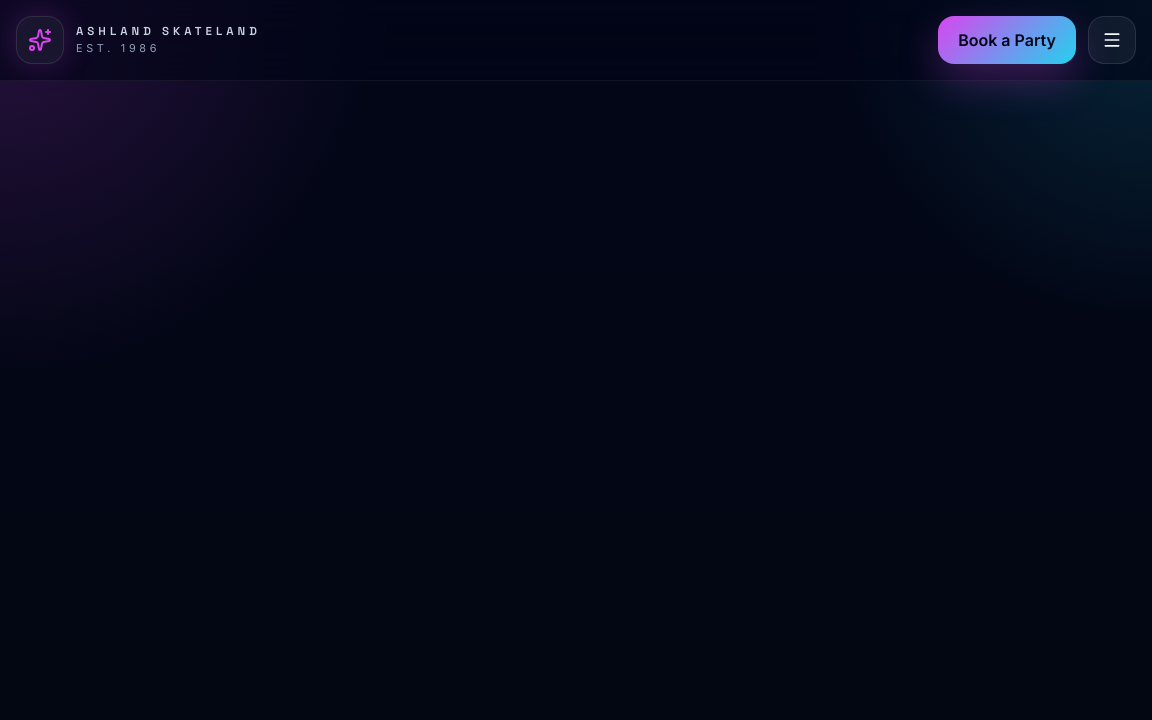
Scenario: Header › opens and closes mobile navigation
The width and height of the screenshot is (1152, 720).
Click the button named "Open navigation menu": (1112, 40) [1088, 16, 1136, 64]
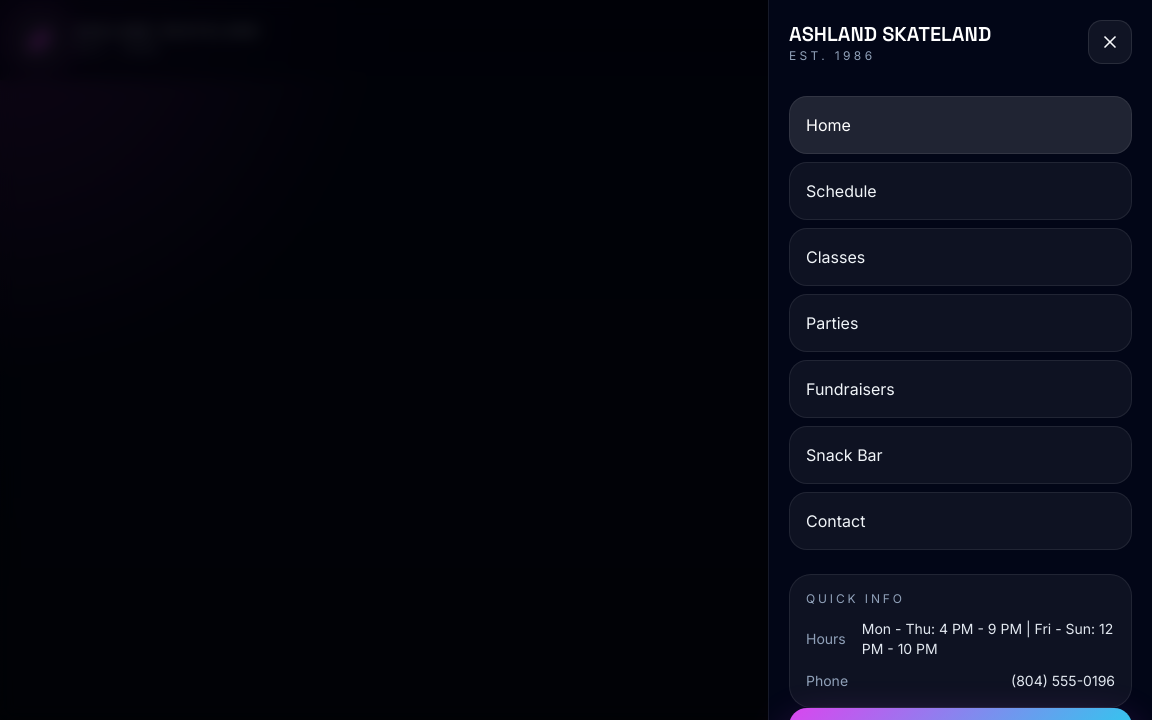
Check: the dialog is shown
Click the button named "Close navigation menu": (1110, 42) [1088, 20, 1132, 64]
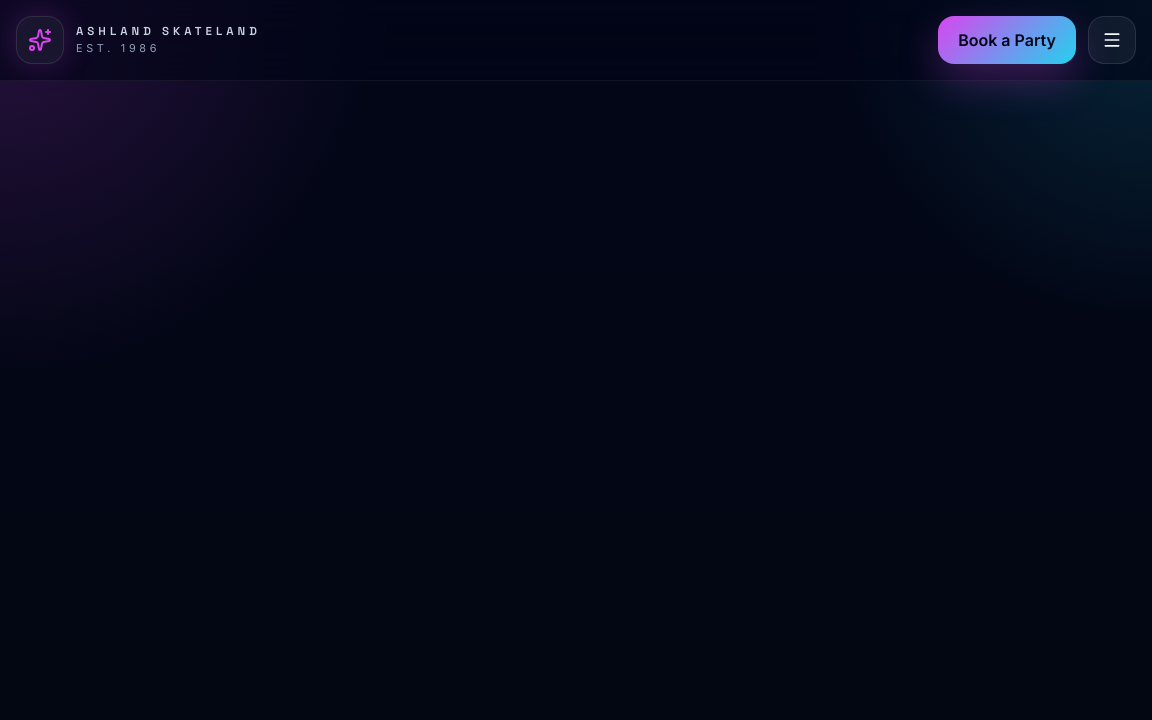
Check: the dialog is gone
